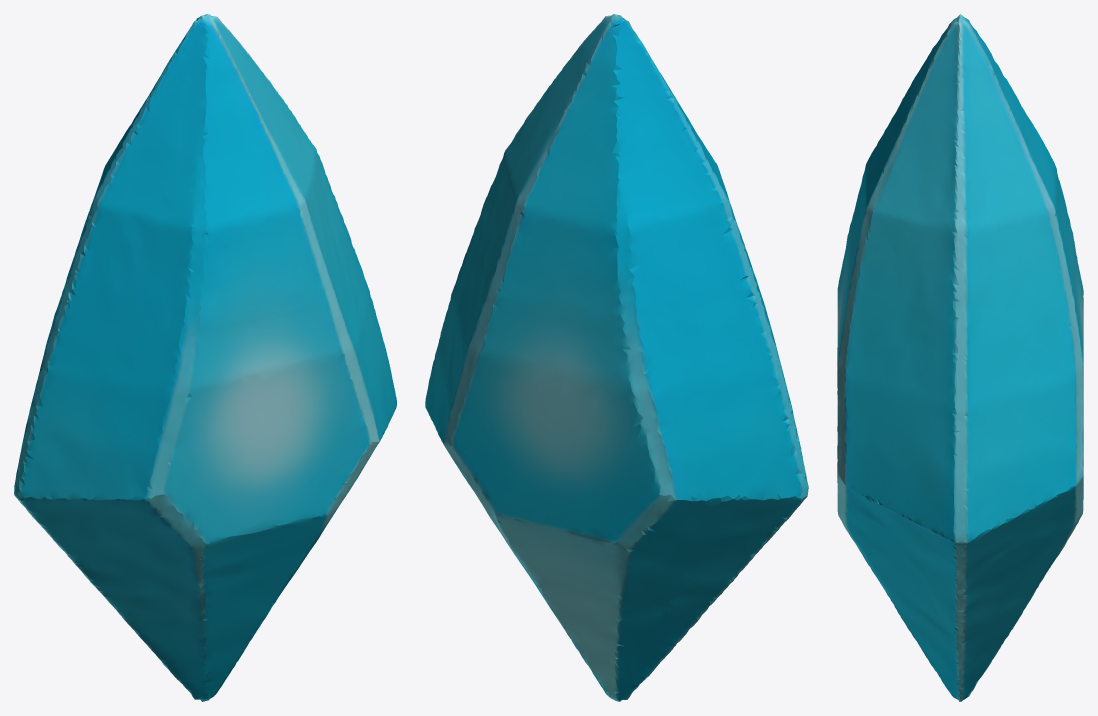
Rendered from core_water.glb.
3 views of the same model, side by side, from view 1: azimuth 30°, elevation 25°; view 2: azimuth 150°, elevation 25°; view 3: azimuth 270°, elevation 25° (orthographic).
Visible parts, largest first — view 1: core_water; view 2: core_water; view 3: core_water.
Part boxes in pixels (x1=…): core_water: x1=14, y1=14, x2=396, y2=701; core_water: x1=425, y1=14, x2=808, y2=701; core_water: x1=837, y1=14, x2=1083, y2=701.
Size of the model in its own units: 0.5754 by 1 by 0.3257.
Materials: 1 (1 with a texture image).
